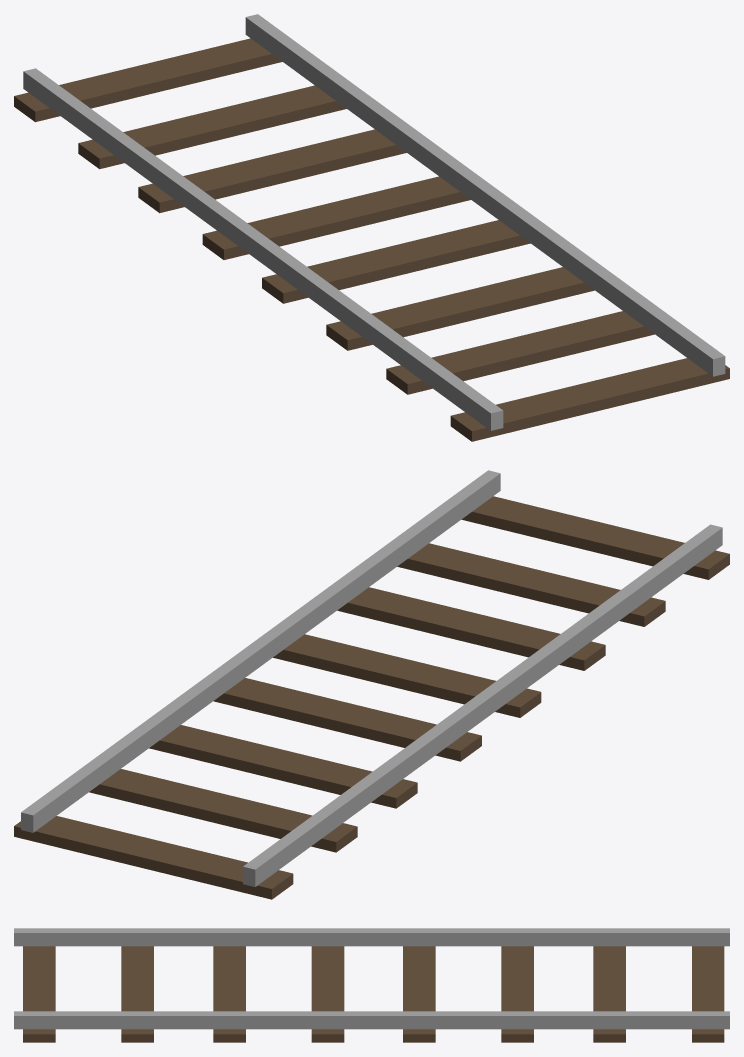
File: track.fbx
The picture shows the model from 3 angles, top to bottom: view 1: azimuth 30°, elevation 25°; view 2: azimuth 150°, elevation 25°; view 3: azimuth 270°, elevation 25°; orthographic projection. The views are drawn at different scales.
Parts seen in each view (by area): view 1: pasted__pCube1 (×4), pasted__pasted__pCube1 (×3), pCube4, pCube3, pasted__pasted__pCube2, pCube2, pCube1; view 2: pasted__pCube1 (×4), pasted__pasted__pCube1 (×3), pCube4, pCube3, pCube2, pasted__pasted__pCube2, pCube1; view 3: pCube3, pCube4, pasted__pCube1 (×4), pasted__pasted__pCube1 (×3), pCube1, pasted__pasted__pCube2, pCube2.
Boxes of the visible parts, x1,y1,x2,y2 form: pasted__pCube1 (×4): (138, 129, 654, 394); pasted__pasted__pCube1 (×3): (202, 176, 729, 441); pCube4: (23, 68, 503, 430); pCube3: (245, 14, 725, 376); pasted__pasted__pCube2: (78, 85, 346, 169); pCube2: (14, 38, 282, 122); pCube1: (262, 235, 530, 303); pasted__pCube1 (×4): (149, 543, 665, 808); pasted__pasted__pCube1 (×3): (213, 496, 729, 761); pCube4: (243, 524, 722, 886); pCube3: (21, 470, 500, 832); pCube2: (14, 816, 293, 899); pasted__pasted__pCube2: (89, 769, 357, 852); pCube1: (273, 634, 541, 717); pCube3: (14, 1011, 729, 1029); pCube4: (14, 928, 729, 946); pasted__pCube1 (×4): (121, 946, 533, 1042); pasted__pasted__pCube1 (×3): (23, 946, 435, 1042); pCube1: (311, 946, 344, 1042); pasted__pasted__pCube2: (593, 946, 625, 1042); pCube2: (692, 946, 724, 1042).
Bounding box in the file's own units: 7 × 0.7659 × 21.97.
